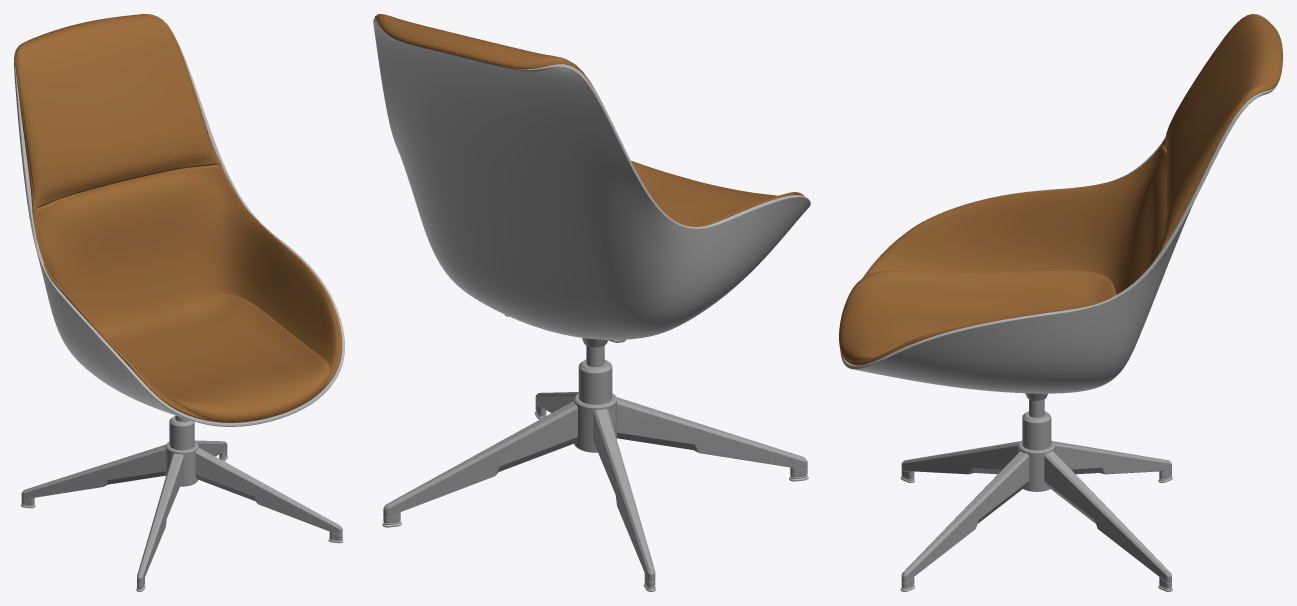
File: chair_02.glb
3 views of the same model, side by side, from view 1: azimuth 30°, elevation 25°; view 2: azimuth 150°, elevation 25°; view 3: azimuth 270°, elevation 25° (orthographic). The views are drawn at different scales.
Visible parts, largest first — view 1: Chair; view 2: Chair; view 3: Chair.
Part boxes in pixels (x1,y1,x2,y2): Chair: (14,14,344,591); Chair: (373,14,810,591); Chair: (839,14,1282,591).
Size of the model in its own units: 0.571 by 1.02 by 0.848.
